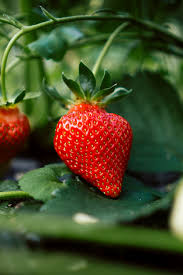ripe: (53, 94, 139, 202), (1, 100, 31, 168)
